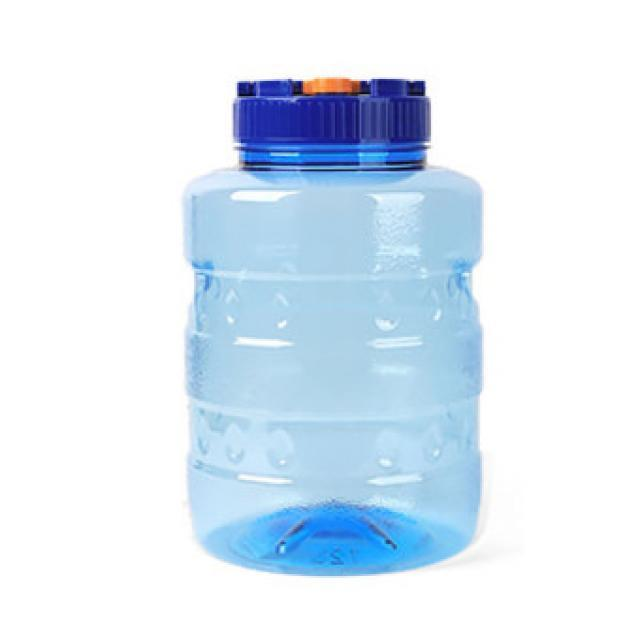blue: (184, 167, 484, 573)
